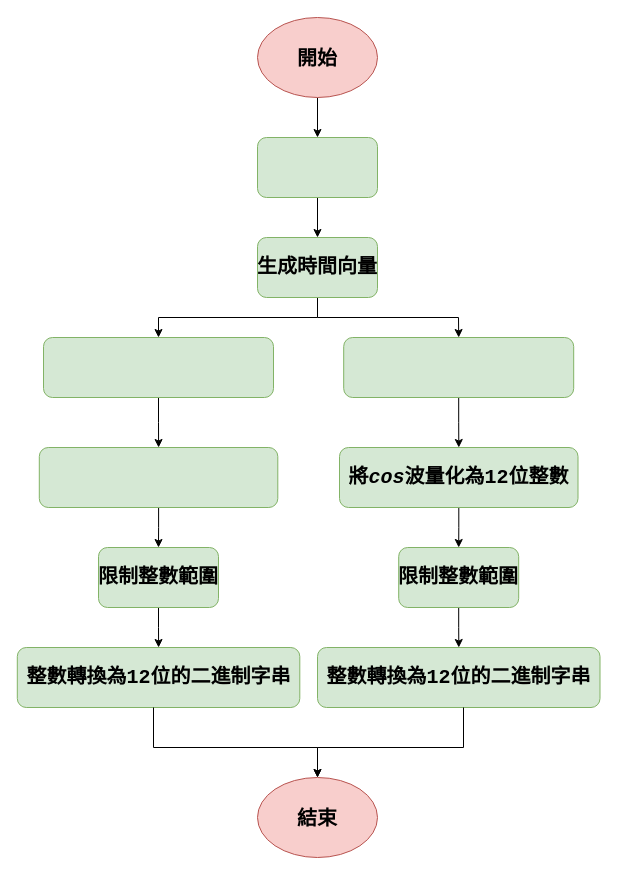
Some shapes in this 618 by 875 pixel diagram are drawn without their labels. Each missing label, with the centre of its shape:
"將 sin 波量化為12位整數" belongs at point (158, 477).
"生成指定頻率和 週期數的 cos 波" belongs at point (458, 367).
"生成指定頻率和 週期數的 sin 波" belongs at point (158, 367).
"設置參數" belongs at point (317, 167).
